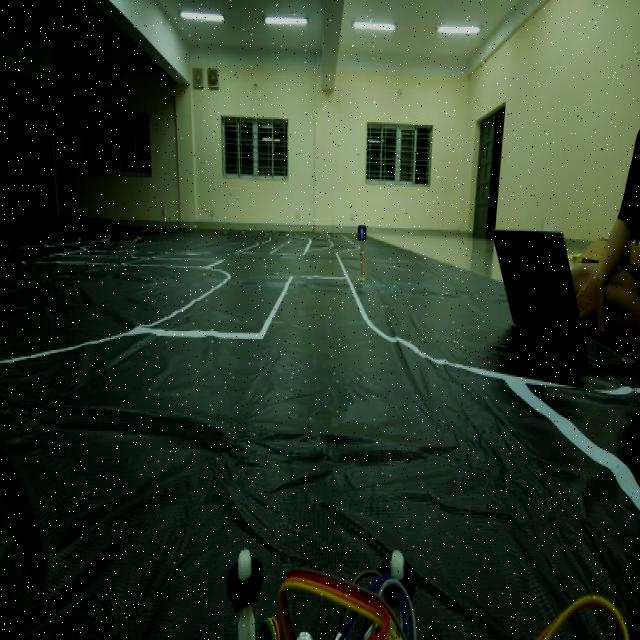onewayroad: (354, 218, 368, 246)
